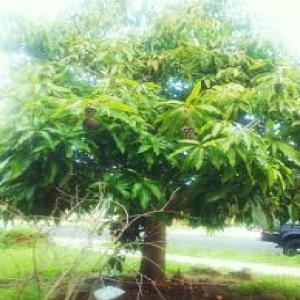Tree: (12, 16, 291, 286)
